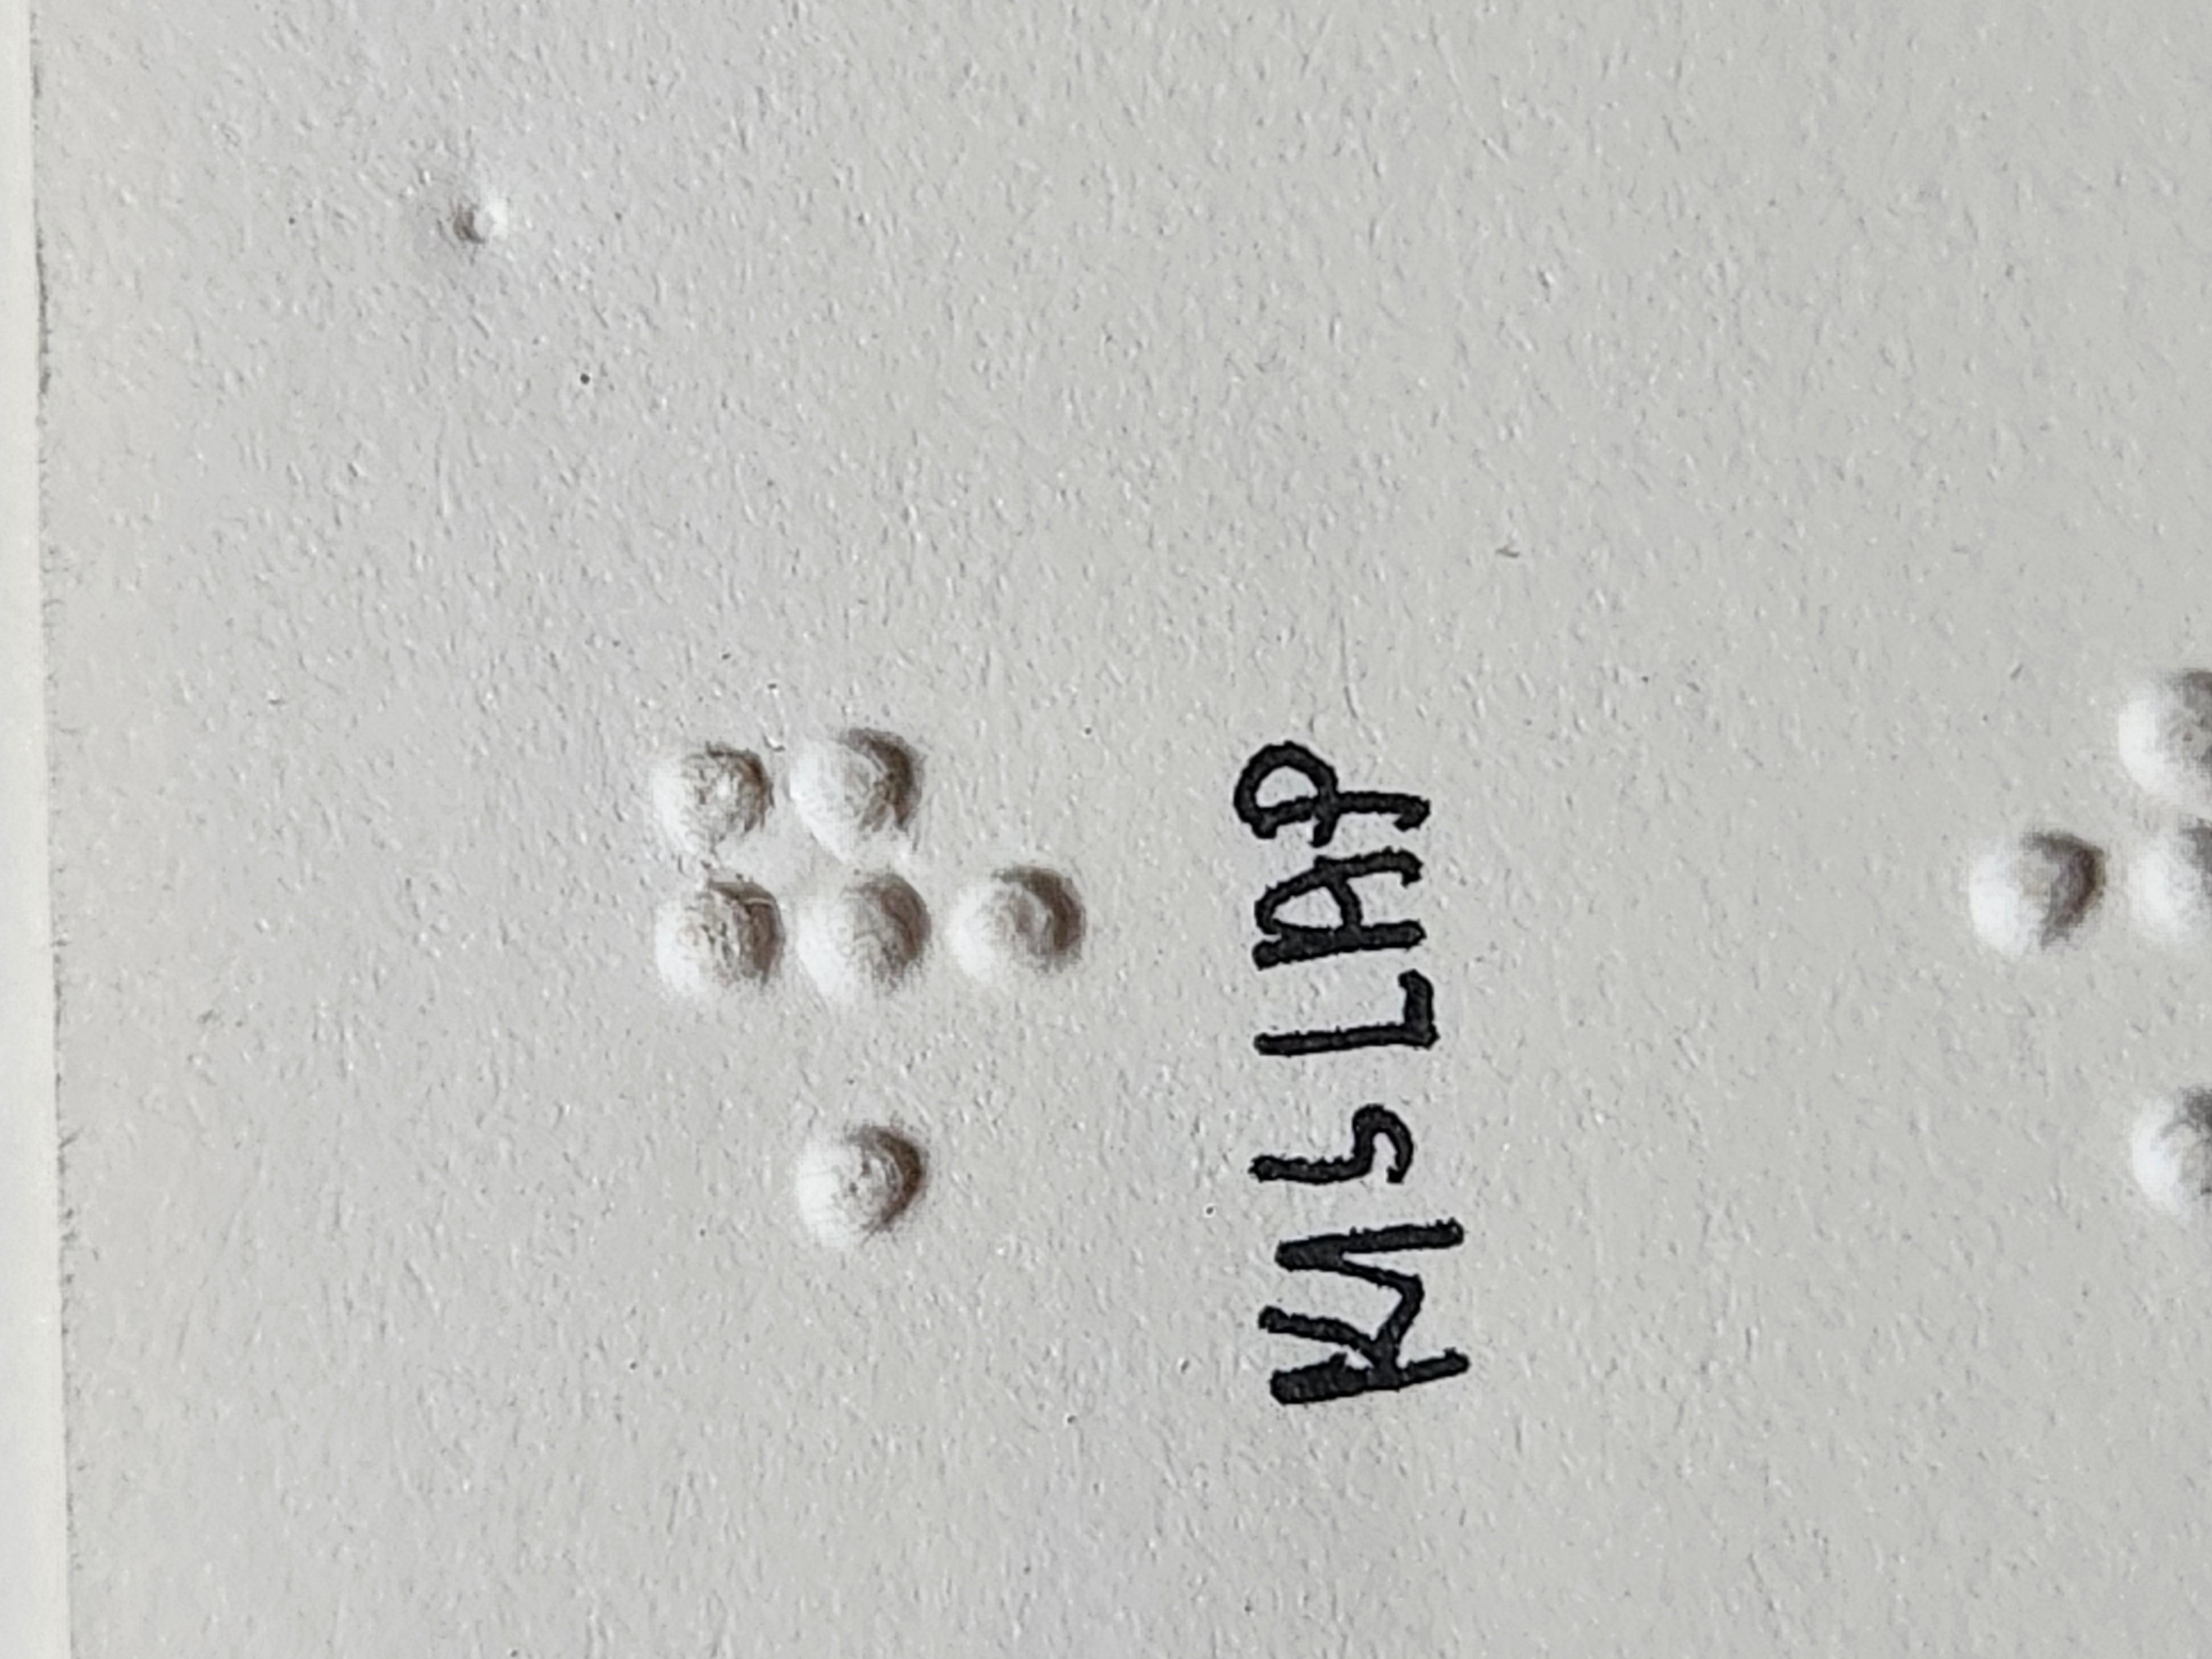dot_5: (355, 491, 709, 830)
two_cell_alphabet_kislap: (887, 477, 1240, 816)
